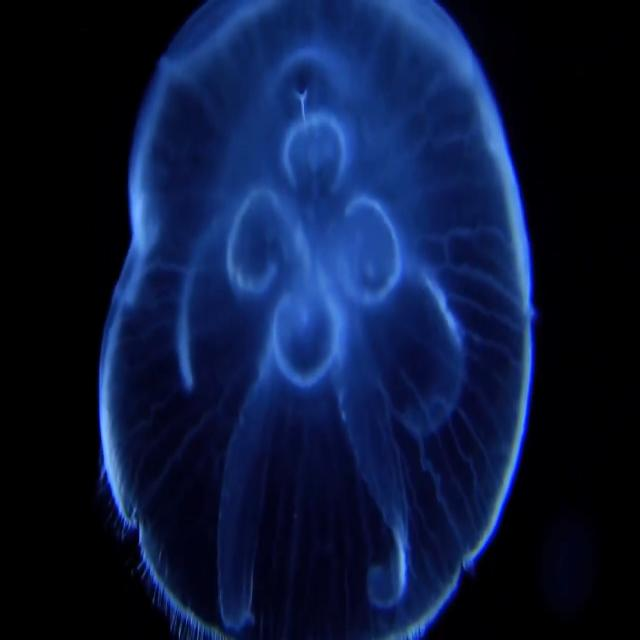Moon-jellyfish: (100, 0, 532, 639)
